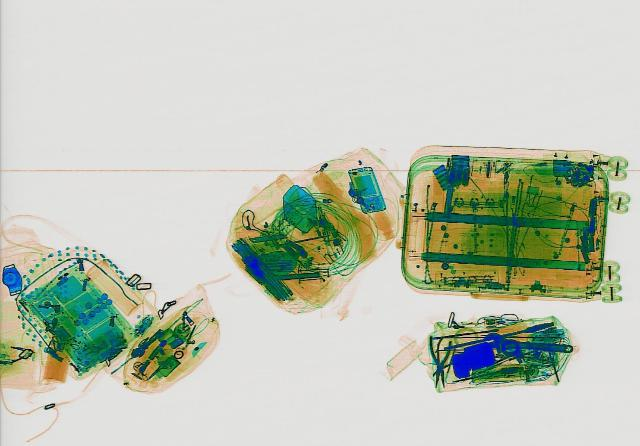Wrench: (478, 329, 578, 360)
